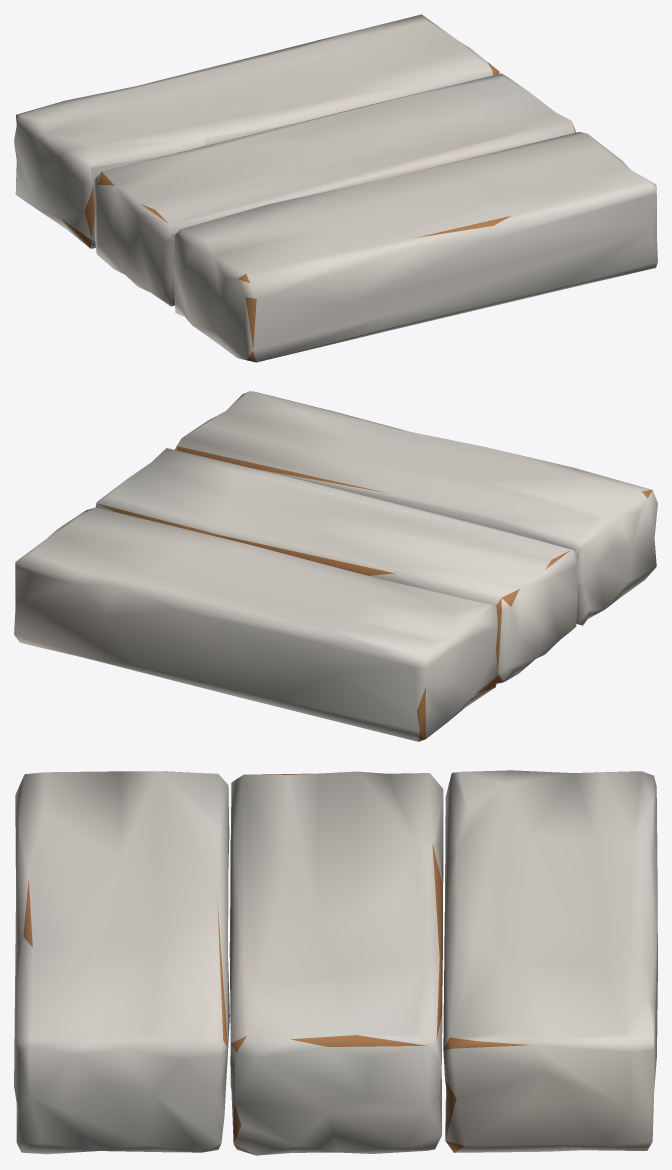
The model's file is frost_sill_ledge_inner_lod2.glb.
3 renders of one model, top to bottom at view 1: azimuth 30°, elevation 25°; view 2: azimuth 150°, elevation 25°; view 3: azimuth 270°, elevation 25°, orthographic. The views are drawn at different scales.
Parts seen in each view (by area): view 1: frost_sill_ledge_inner.001; view 2: frost_sill_ledge_inner.001; view 3: frost_sill_ledge_inner.001.
Boxes of the visible parts, x1,y1,x2,y2 form: frost_sill_ledge_inner.001: (14,14,657,362); frost_sill_ledge_inner.001: (14,391,657,741); frost_sill_ledge_inner.001: (14,770,657,1155).
Size of the model in its own units: 20.16 by 4.23 by 20.01.
